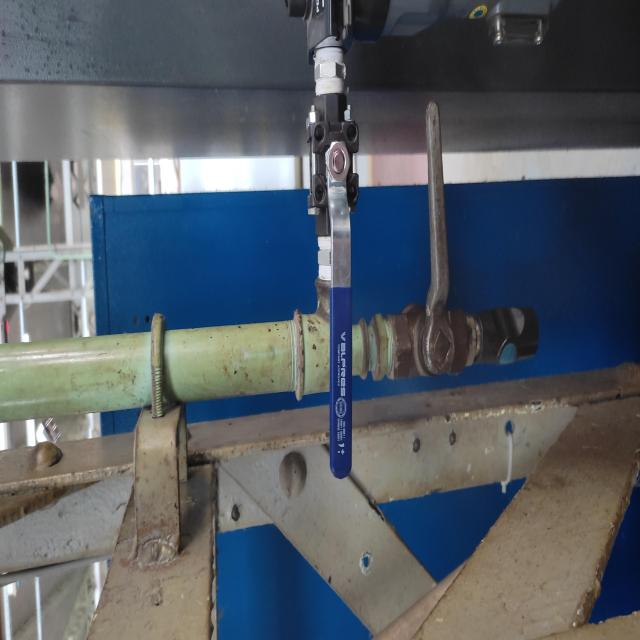closed_valve: (393, 89, 476, 389)
opened_valve: (302, 86, 362, 480)
